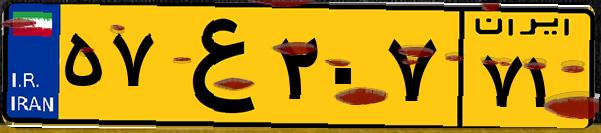0: (330, 28, 385, 110)
1: (525, 38, 570, 115)
2: (270, 28, 330, 110)
5: (57, 26, 110, 100)
7: (385, 28, 445, 110), (475, 38, 525, 113), (110, 28, 158, 98)
ع: (158, 12, 270, 120)
